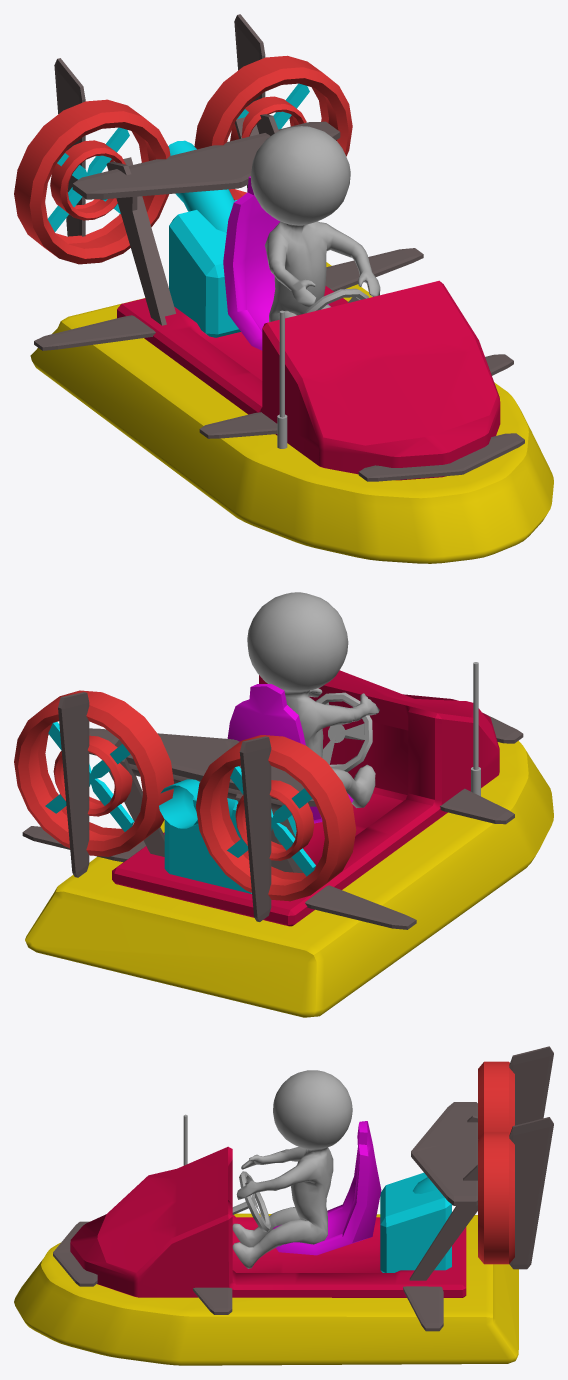
The model's file is bot_BOSS_5.fbx.
3 renders of one model, top to bottom at view 1: azimuth 30°, elevation 25°; view 2: azimuth 150°, elevation 25°; view 3: azimuth 270°, elevation 25°, orthographic. The views are drawn at different scales.
Parts seen in each view (by area): view 1: polySurface4598; view 2: polySurface4598; view 3: polySurface4598.
Boxes of the visible parts, bbox=[...] form: polySurface4598: bbox=[14, 14, 553, 563]; polySurface4598: bbox=[14, 592, 553, 1017]; polySurface4598: bbox=[14, 1046, 553, 1365].
Bounding box in the file's own units: 263 × 195 × 401.
